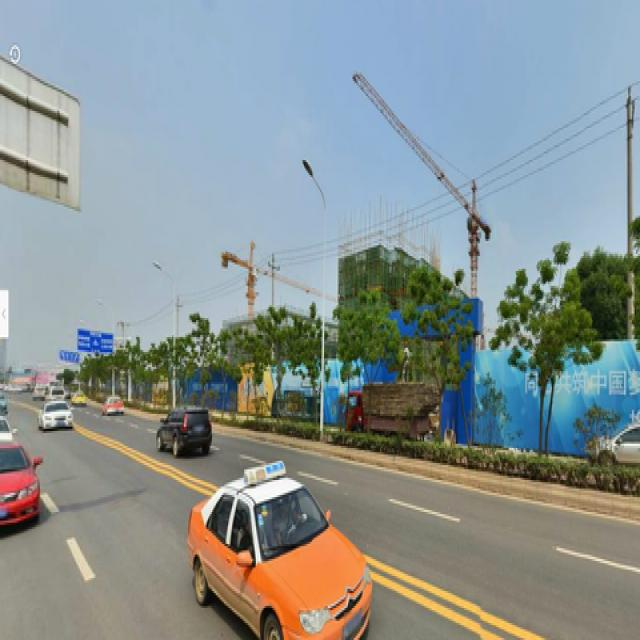sali: (507, 258, 573, 461), (410, 273, 458, 410), (351, 294, 392, 382)
